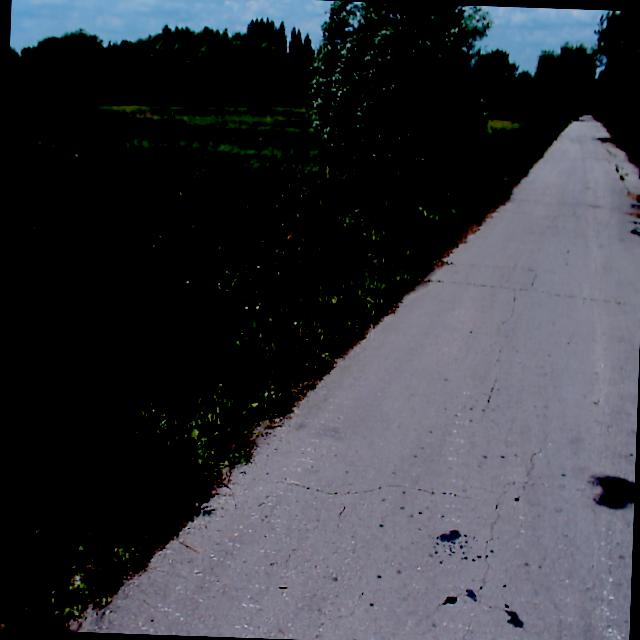road: (70, 114, 640, 640)
